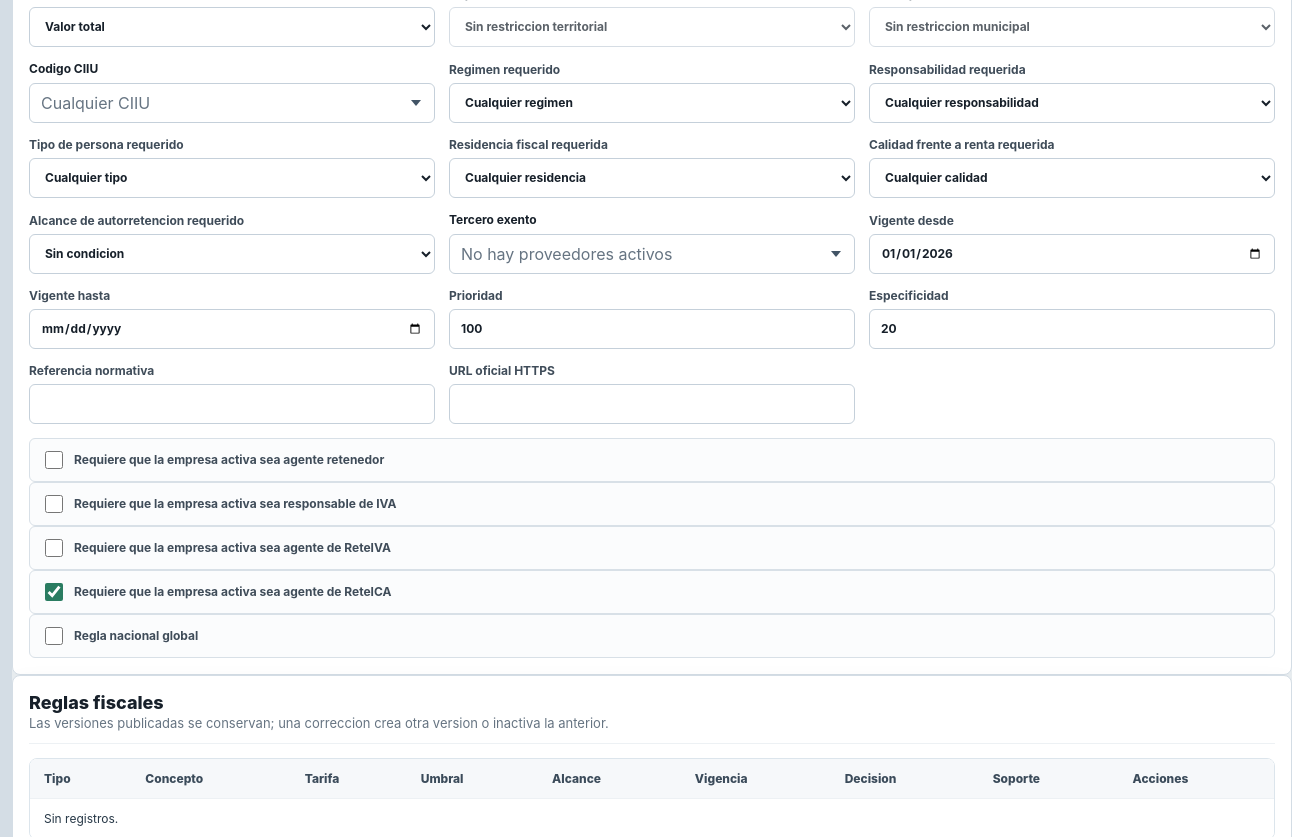
Test: root needs an active company unless the fiscal rule is global
The width and height of the screenshot is (1292, 837).
(page scrolled)
Click the checkbox labelled "Regla nacional global". click: (54, 636)
box: [45, 627, 63, 645]
(page scrolled)
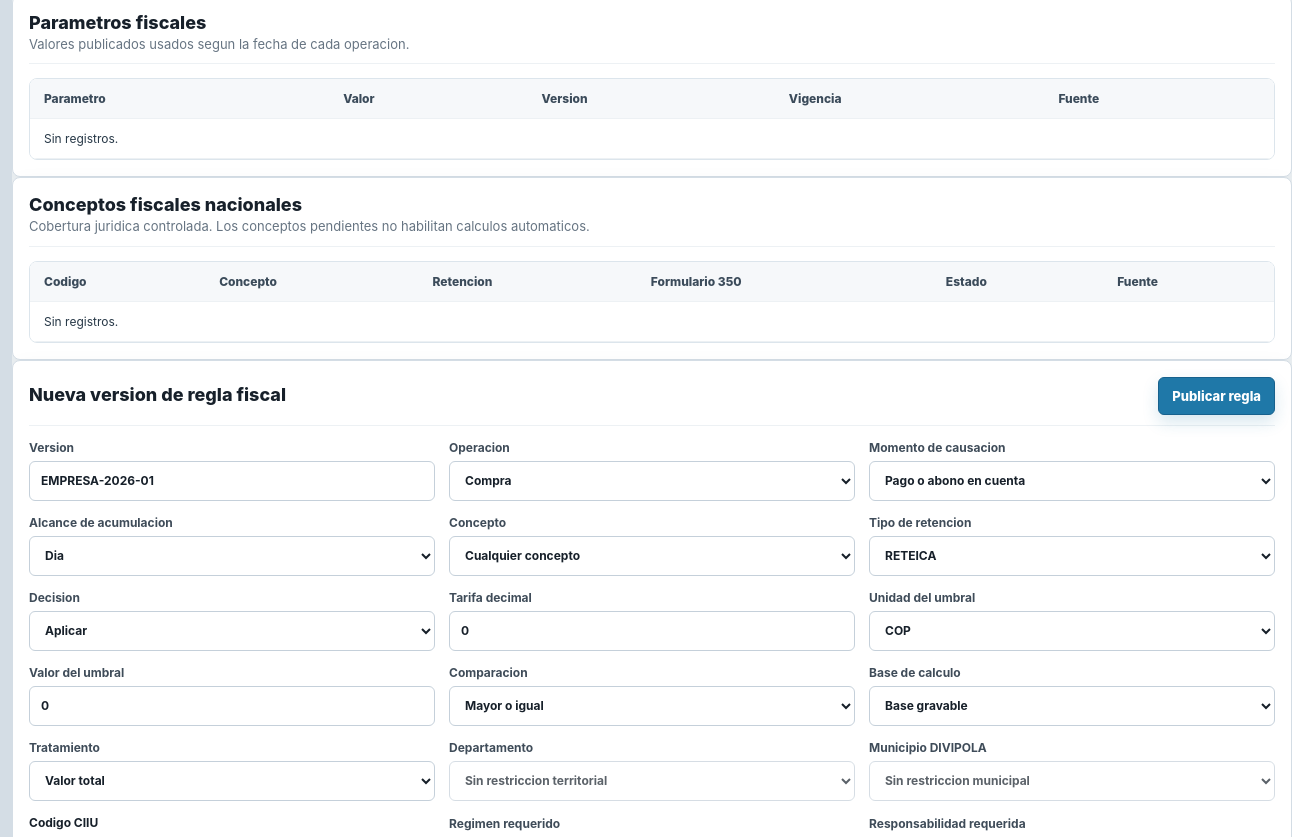
Check: the button "Publicar regla" is enabled, box [1158, 377, 1275, 415]
